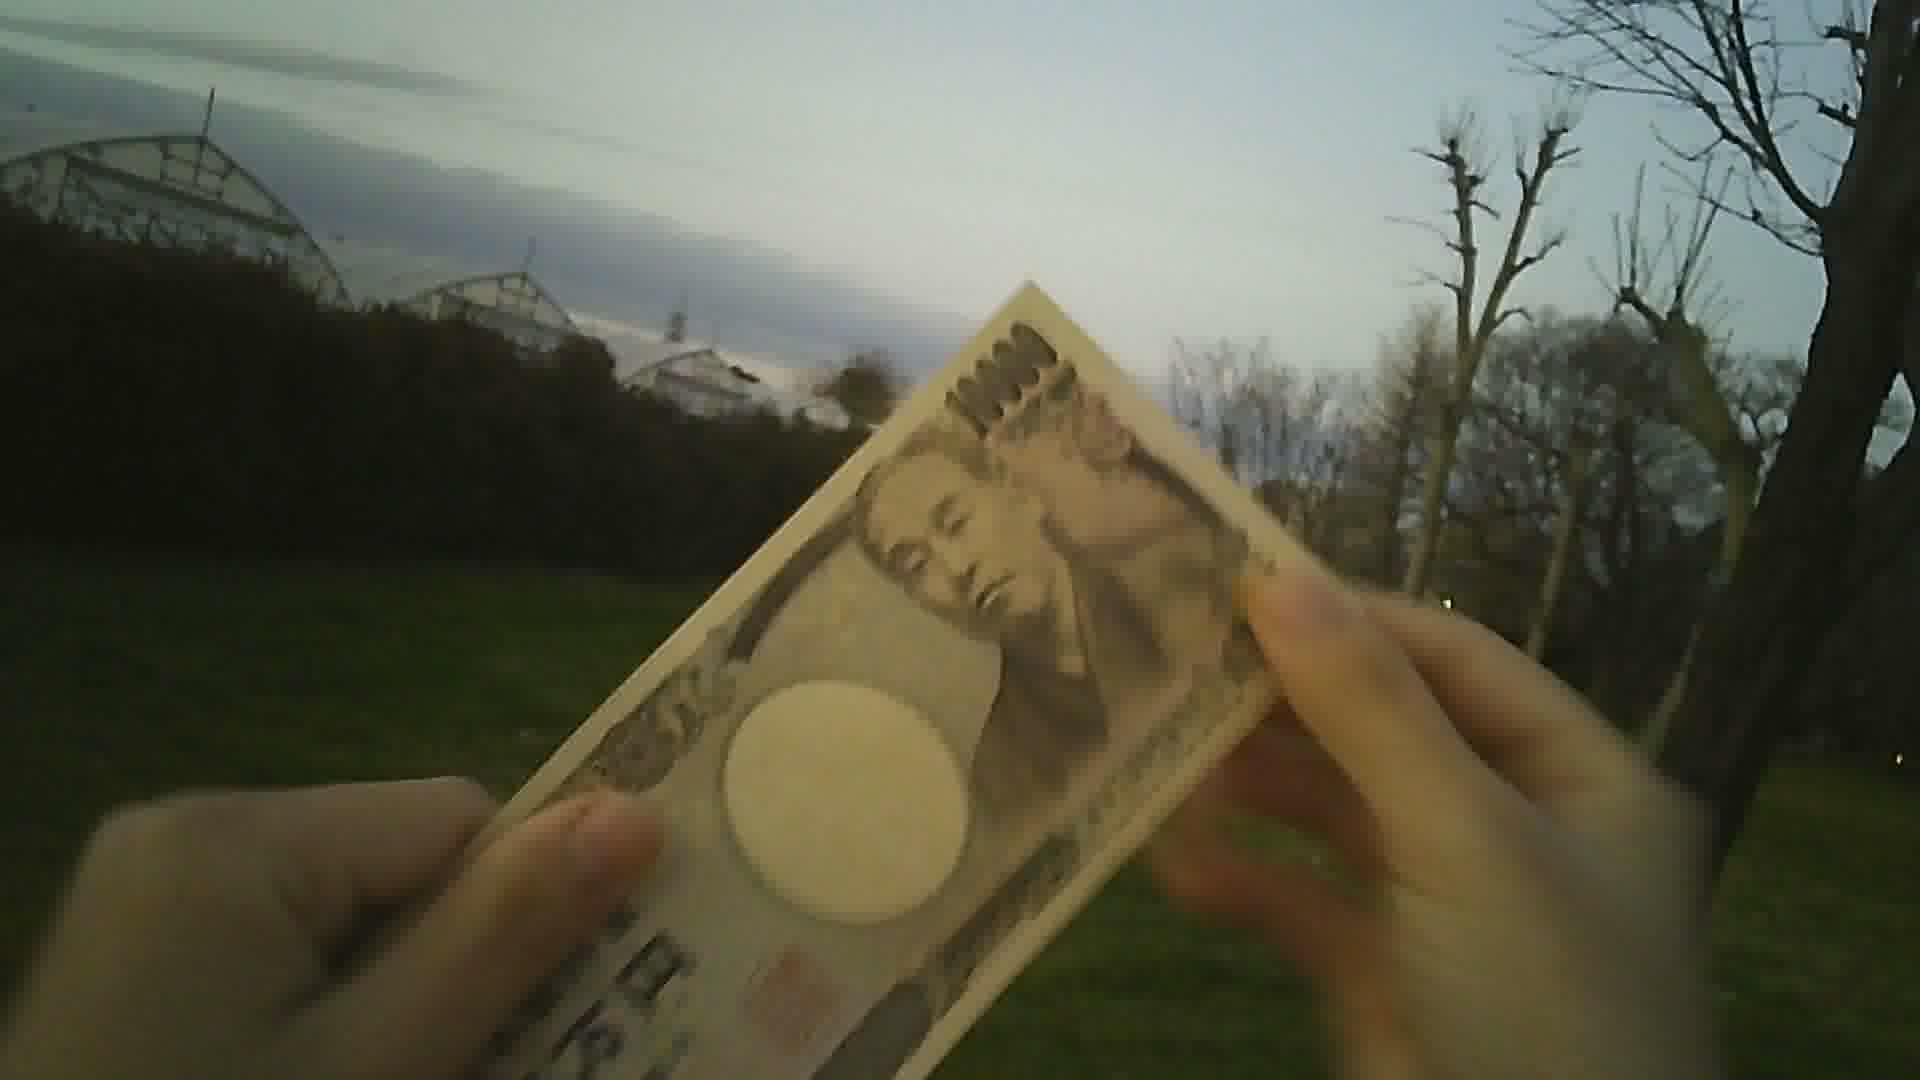10,000 Yen: (397, 253, 1360, 1079)
